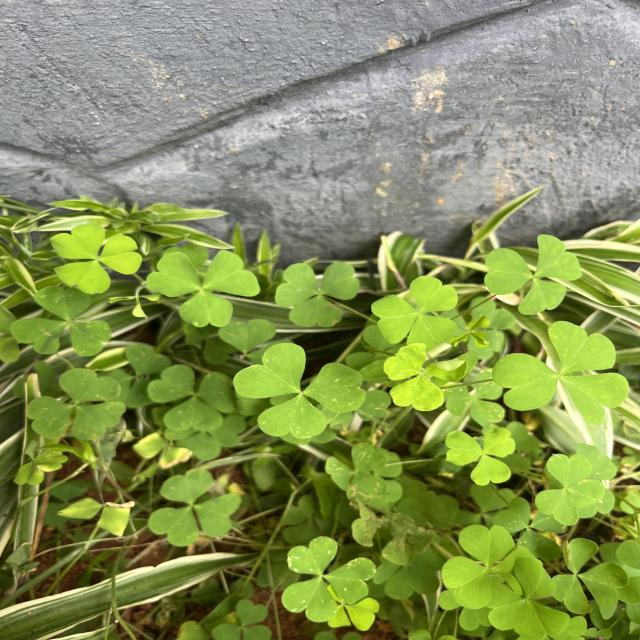Oxalis corniculata: (232, 342, 368, 440), (144, 248, 262, 328), (25, 366, 127, 442), (10, 285, 113, 358), (48, 222, 144, 296), (370, 274, 460, 350), (146, 363, 238, 432), (382, 342, 470, 412), (274, 260, 362, 328)
